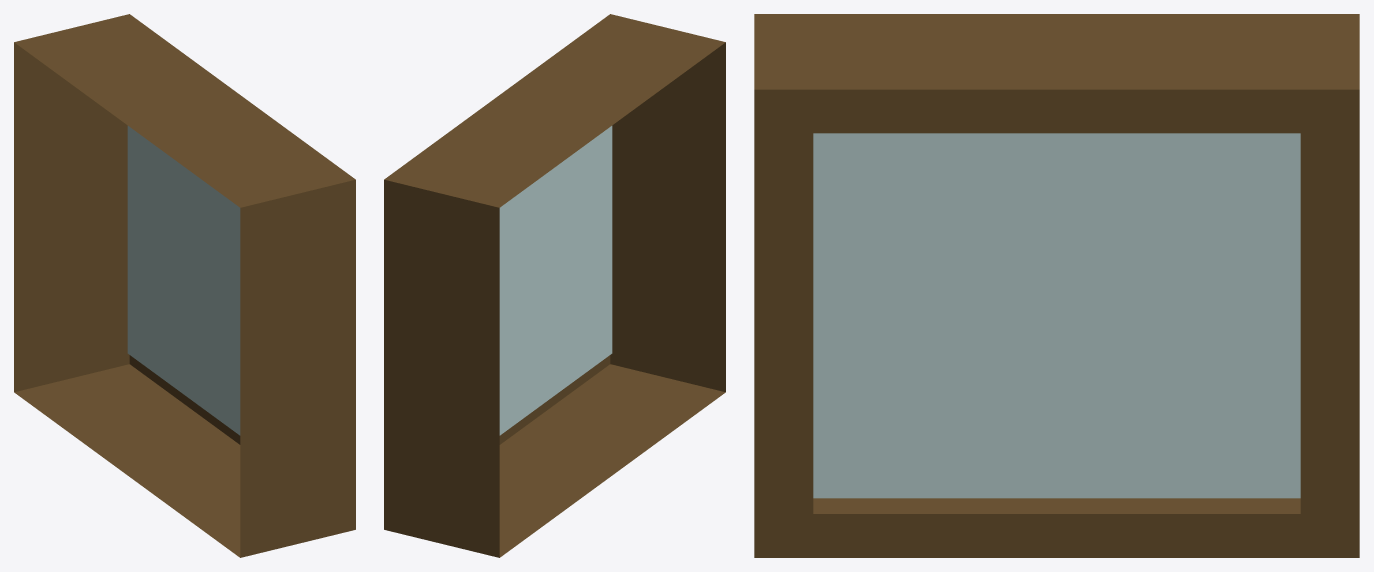
The model's file is window_2_4.fbx.
3 renders of one model, left to right at view 1: azimuth 30°, elevation 25°; view 2: azimuth 150°, elevation 25°; view 3: azimuth 270°, elevation 25°, orthographic. The views are drawn at different scales.
Visible parts, largest first — view 1: window_2_4; view 2: window_2_4; view 3: window_2_4.
Boxes of the visible parts, left/top/right/bottom form: window_2_4: left=14, top=14, right=355, bottom=557; window_2_4: left=384, top=14, right=725, bottom=557; window_2_4: left=754, top=14, right=1359, bottom=557.
Size of the model in its own units: 49.39 by 143 by 167.
